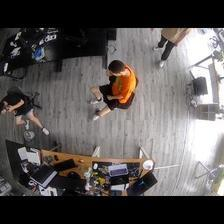normal: (87, 58, 137, 124), (1, 89, 52, 142)
